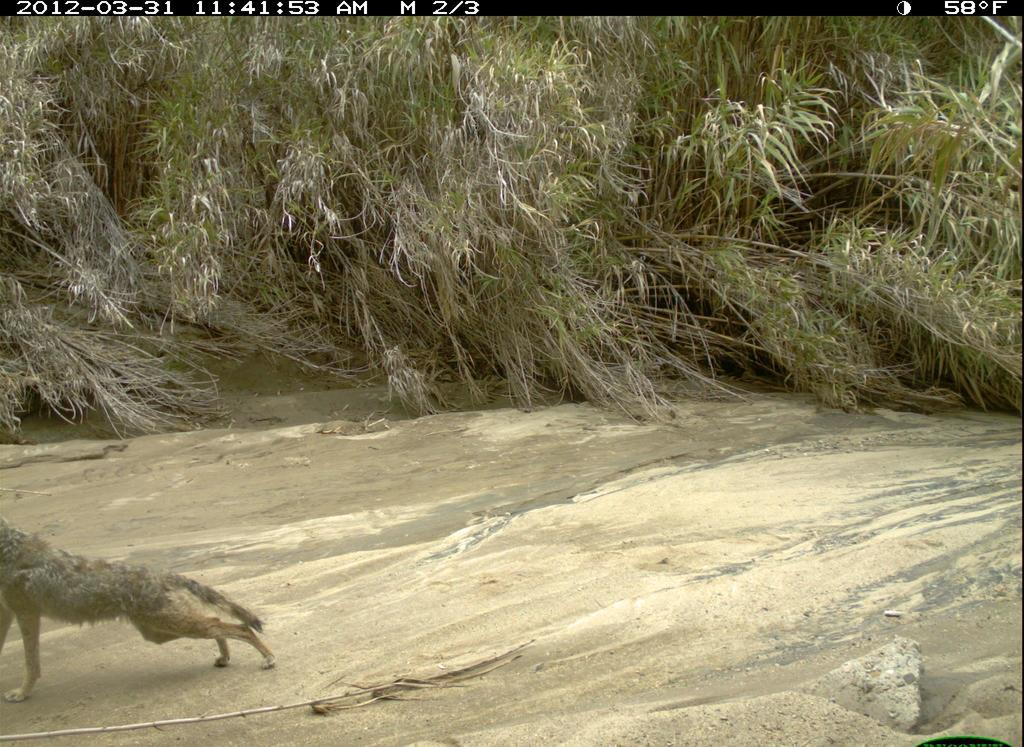coyote: (3, 506, 296, 693)
